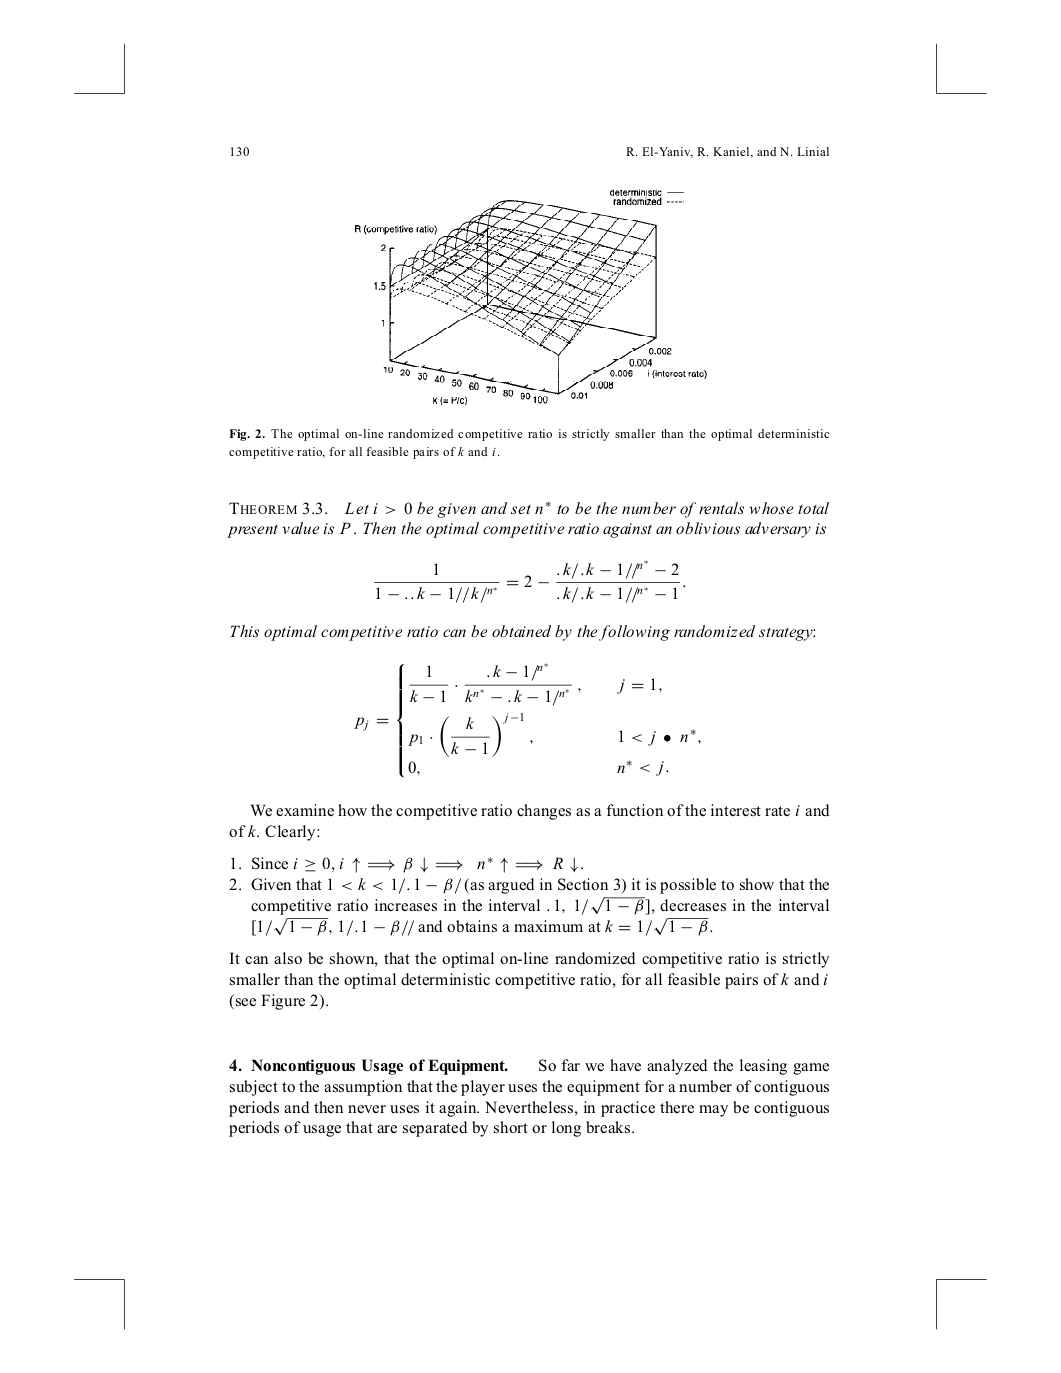figure: (356, 188, 705, 405)
formula: (354, 662, 700, 778), (374, 559, 685, 603)
